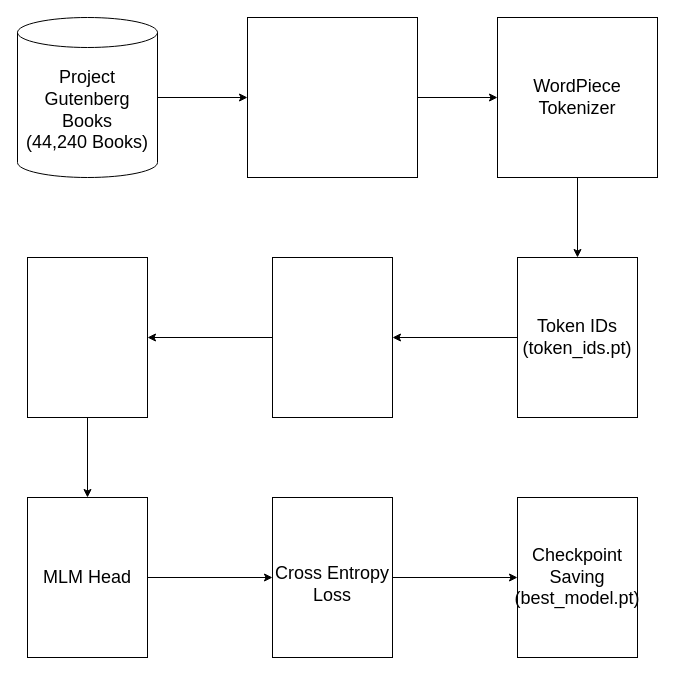
This 675x675 diagram has some shape labels left out. The shapes that lost their labels are listed below. From the top down, each one's centre as x and y in pixels, then its label:
At point (332, 97): "Corpus Creation (606 Books ~50 Million Words)".
At point (87, 337): "MiniBERT (6 Encoder Layers)".
At point (332, 337): "MLM Dataset (15% Masking)".
